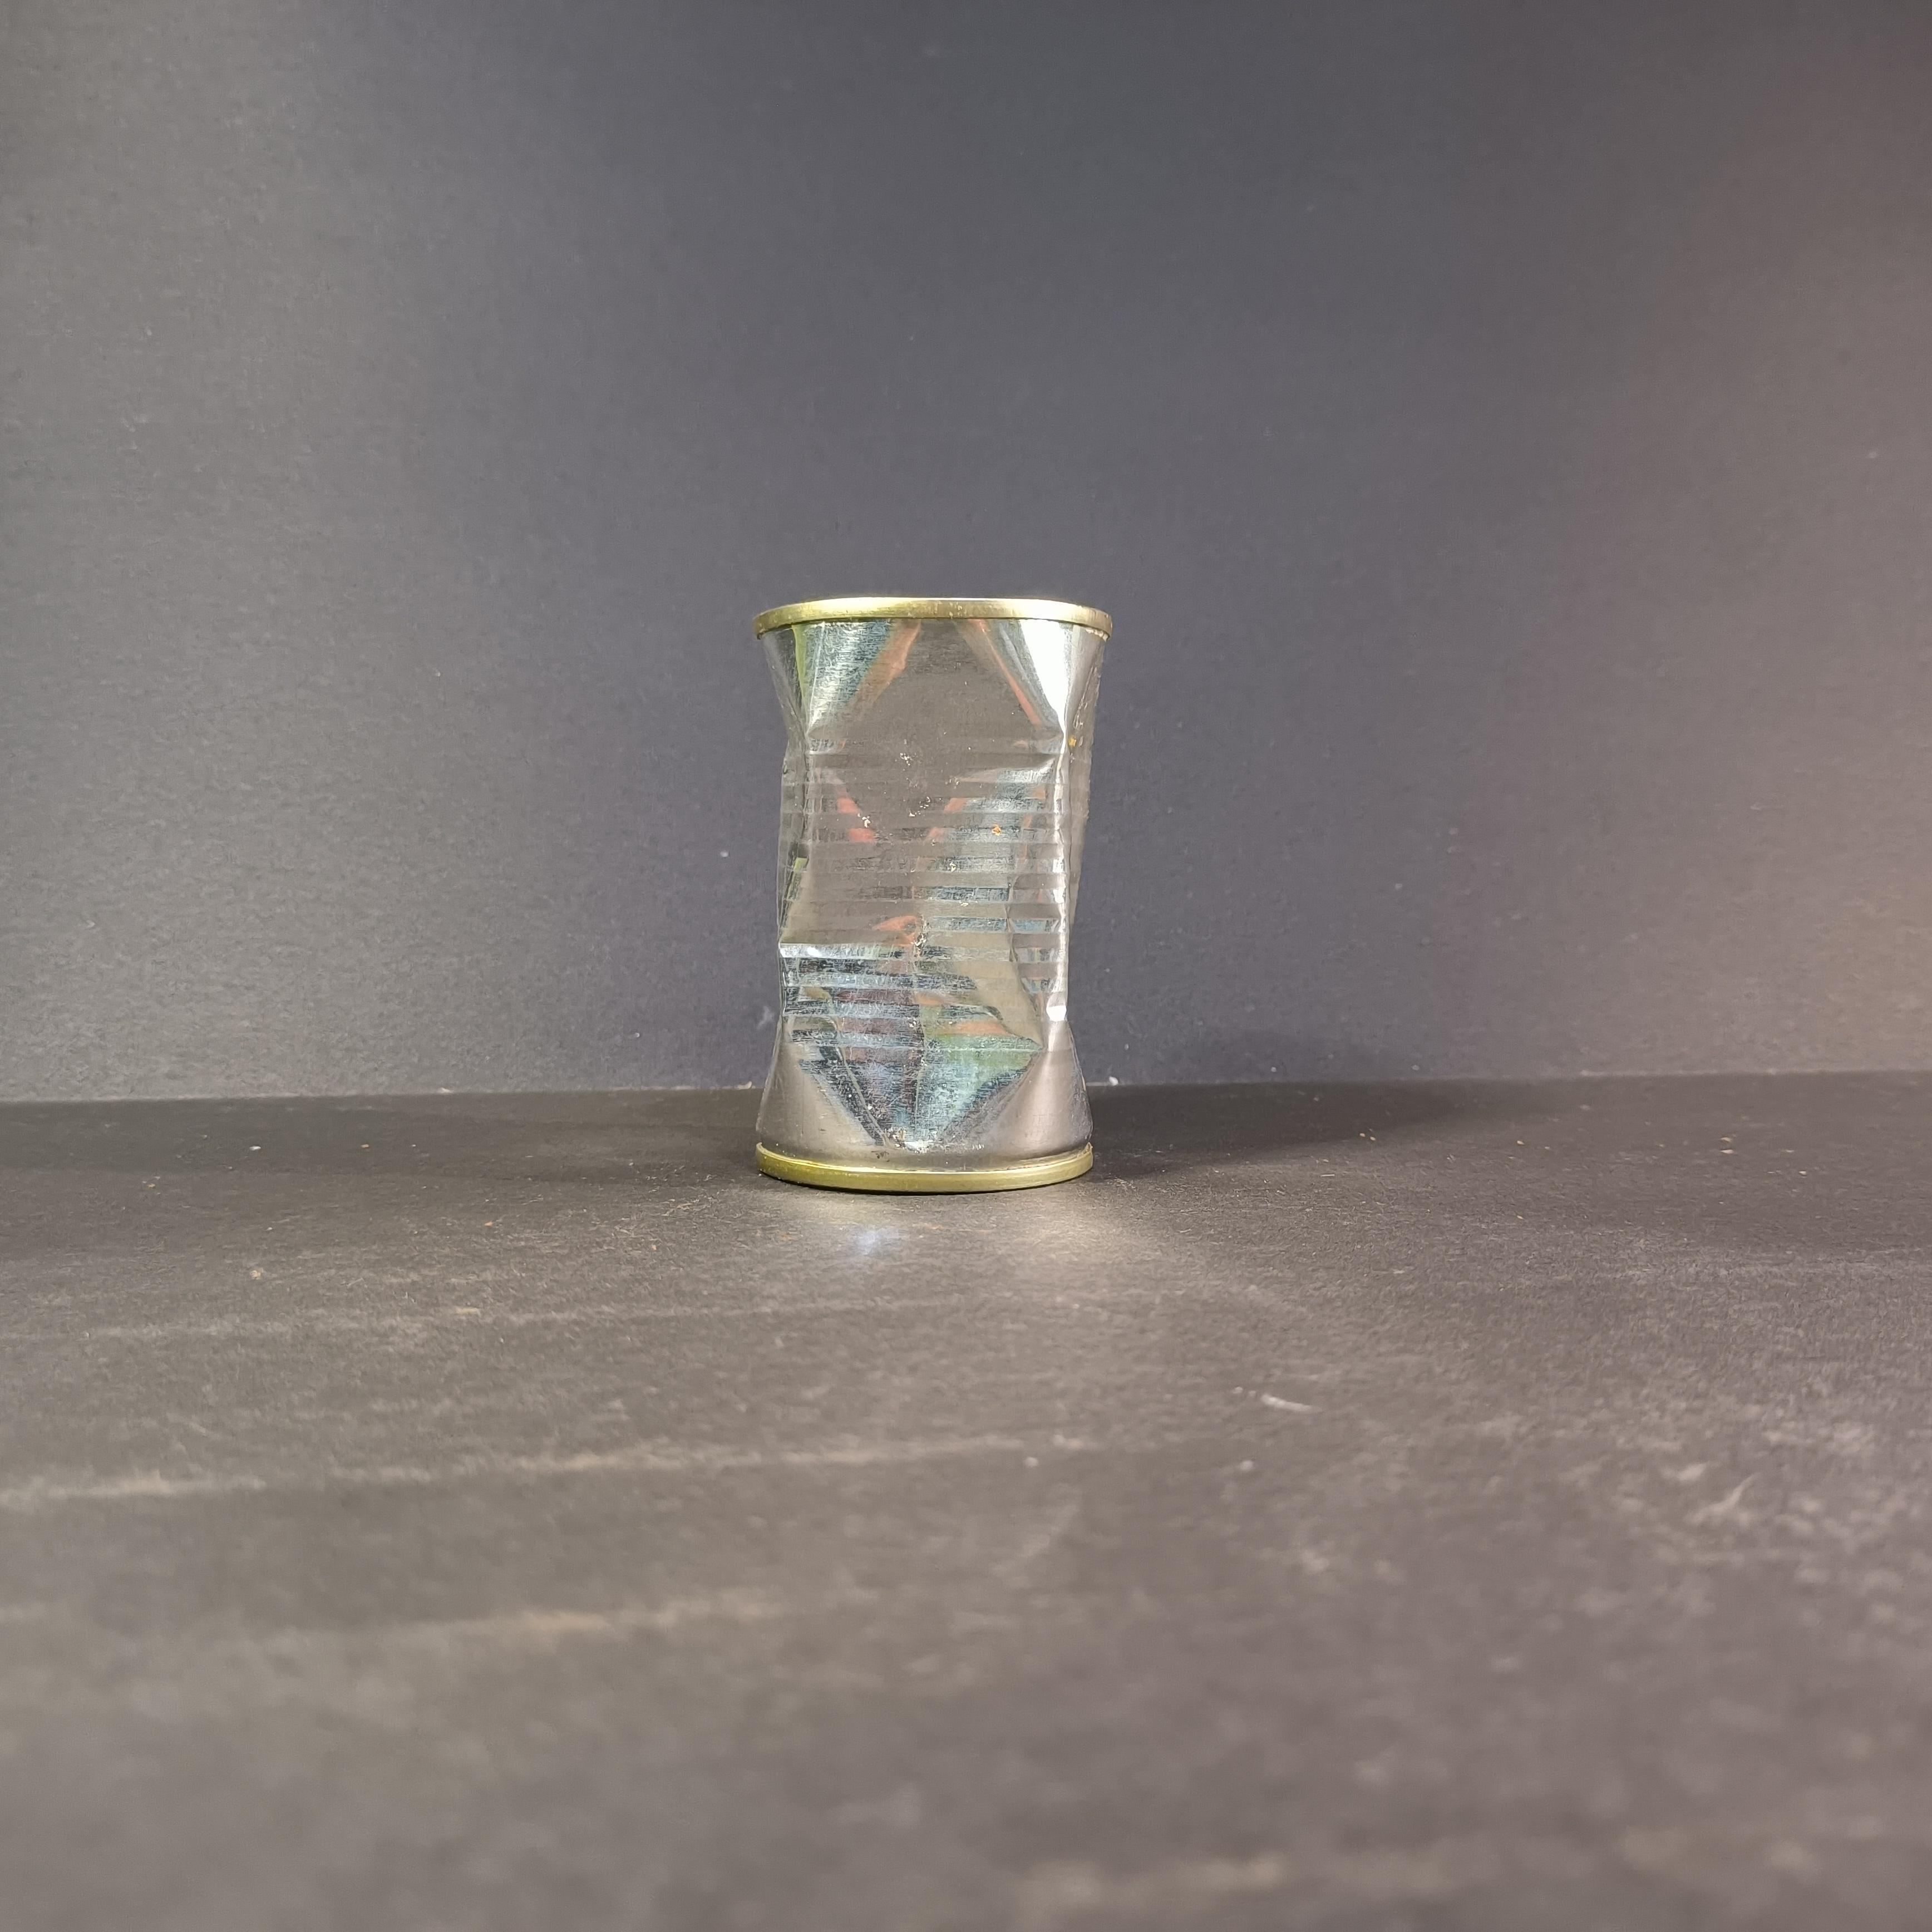Dented: (729, 563, 1123, 1200)
